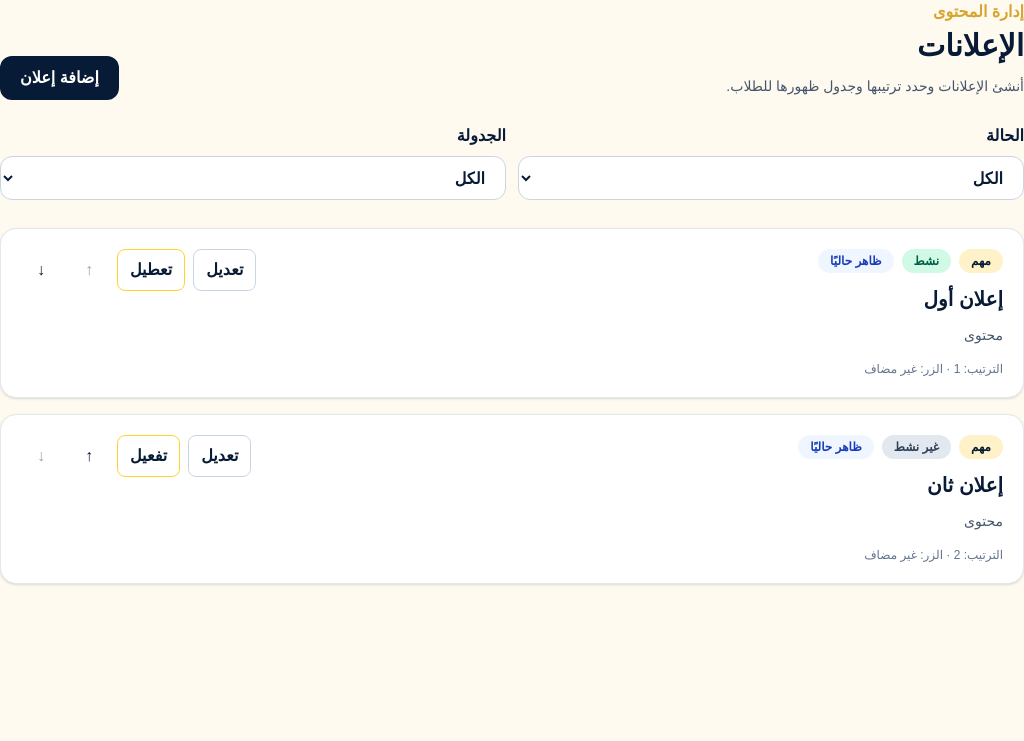
Test case: AdminAnnouncementsPage › creates and opens editing
expect the heading "إعلان أول" is shown: met, box [924,288,1003,310]
Click the button "إضافة إعلان". click: (59, 78)
box: [0,56,119,100]
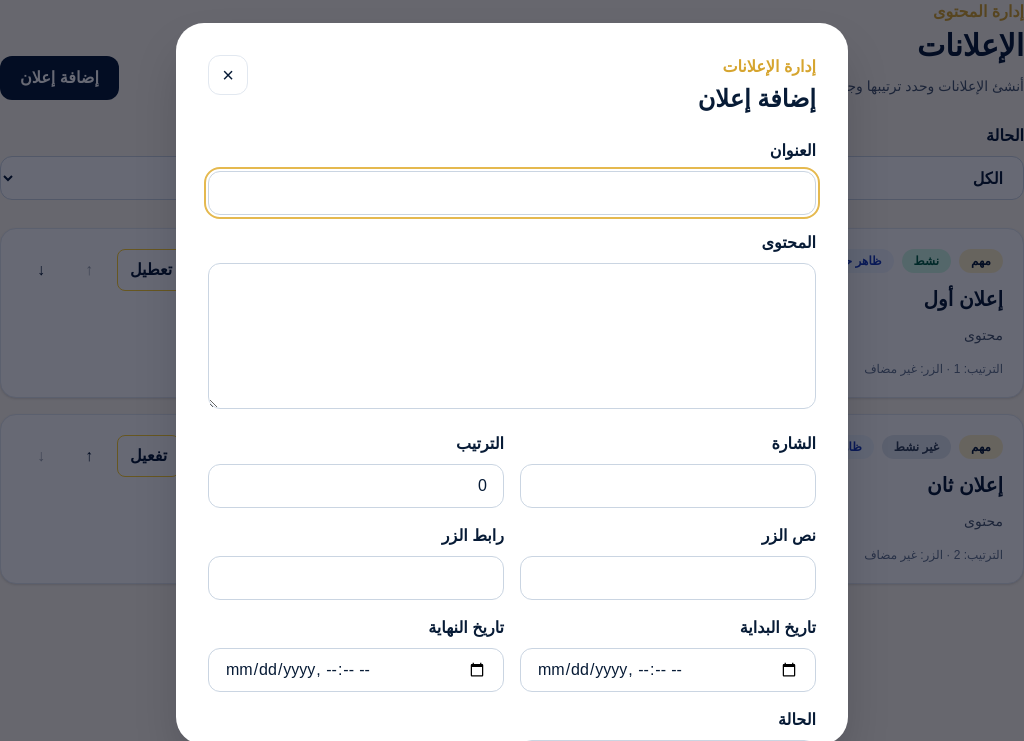
Type "خبر جديد" into the field labelled "العنوان". click: (512, 193)
box: [208,171,816,215]
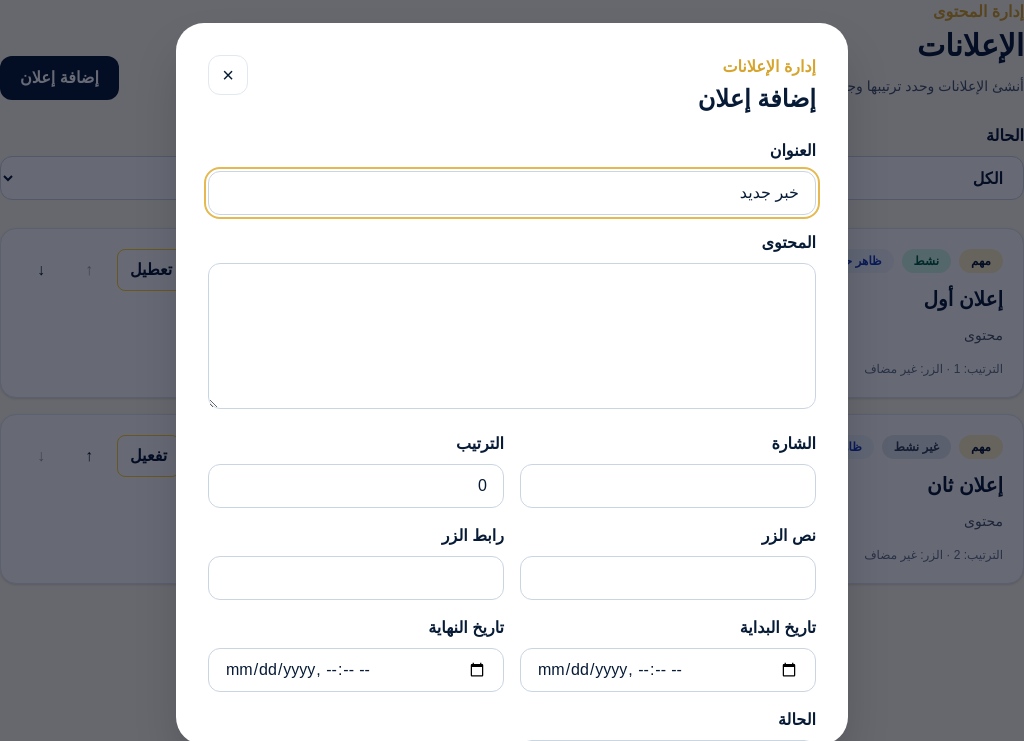
Type "تفاصيل الخبر" into the text box labelled "المحتوى". click: (512, 336)
box: [208,263,816,409]
(page scrolled)
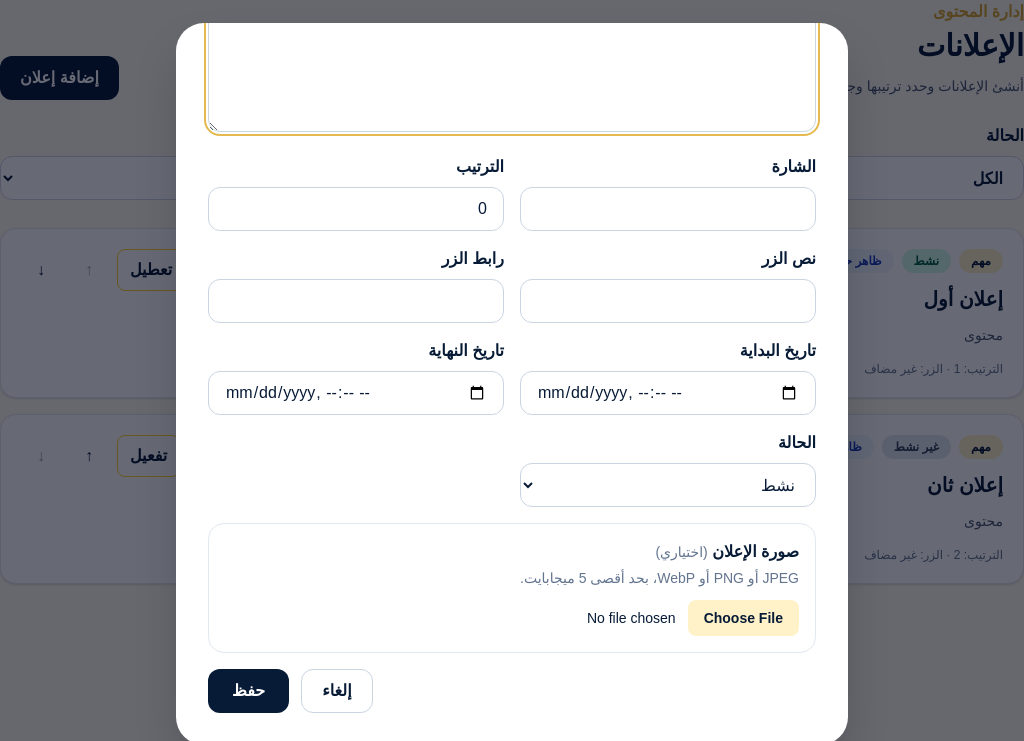
Click the button "حفظ". click: (249, 691)
box: [208,669,289,713]
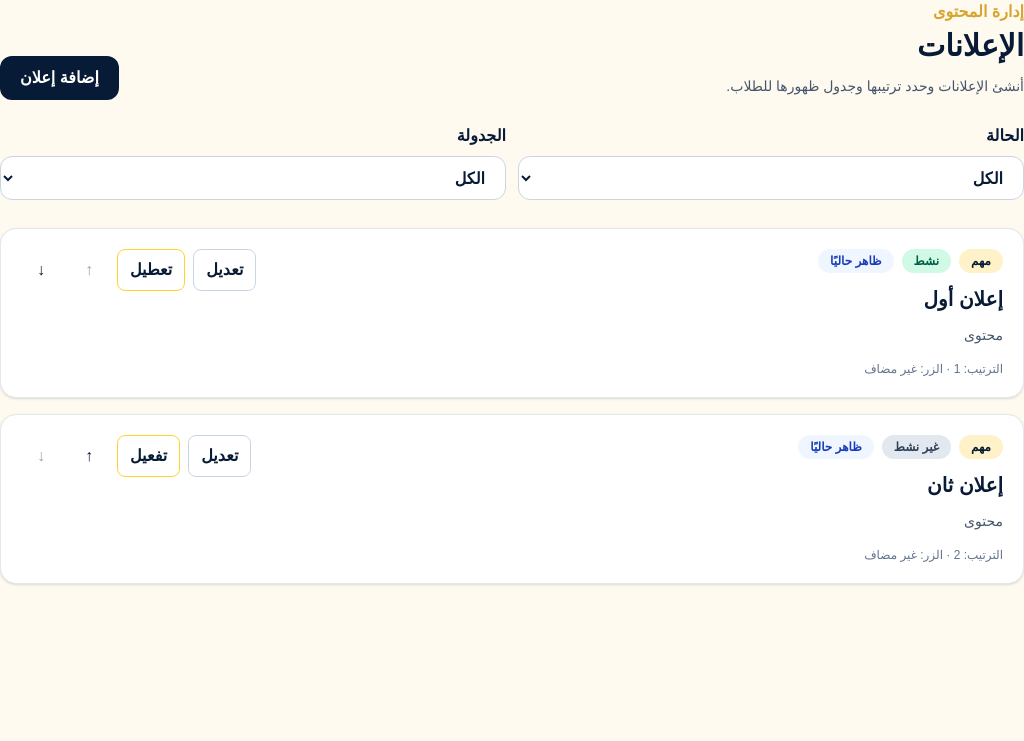
Click the button "تعديل" in the row of "إعلان أول". click: (225, 270)
box: [193,249,256,291]
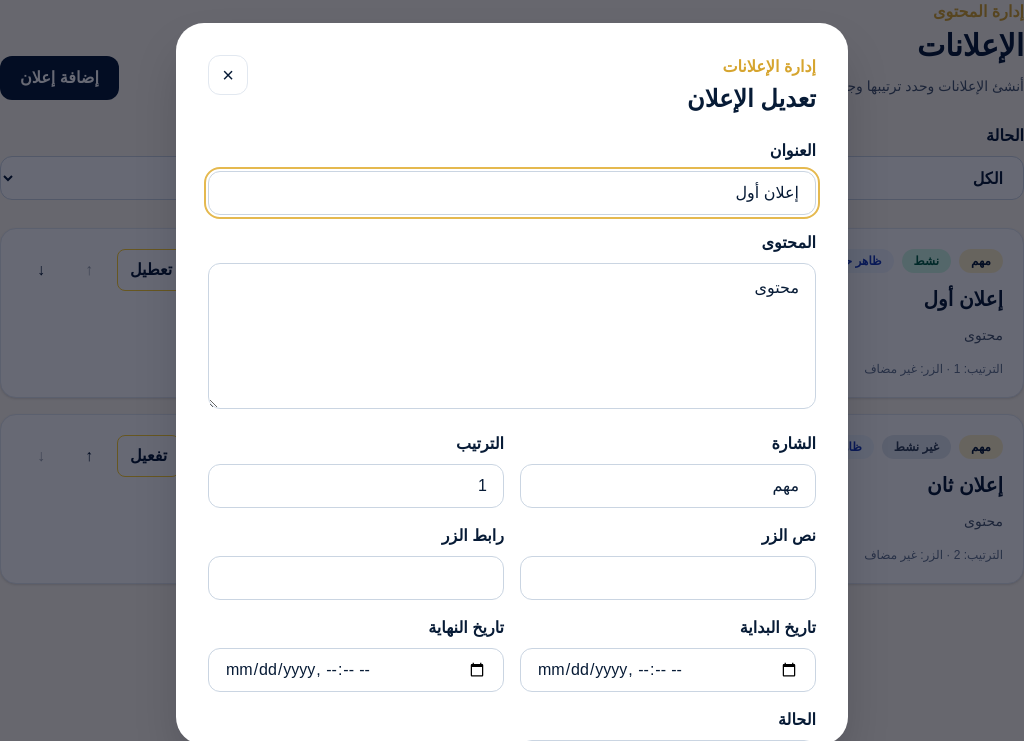
expect the field showing "إعلان أول" is shown: met, box [208,171,816,215]
